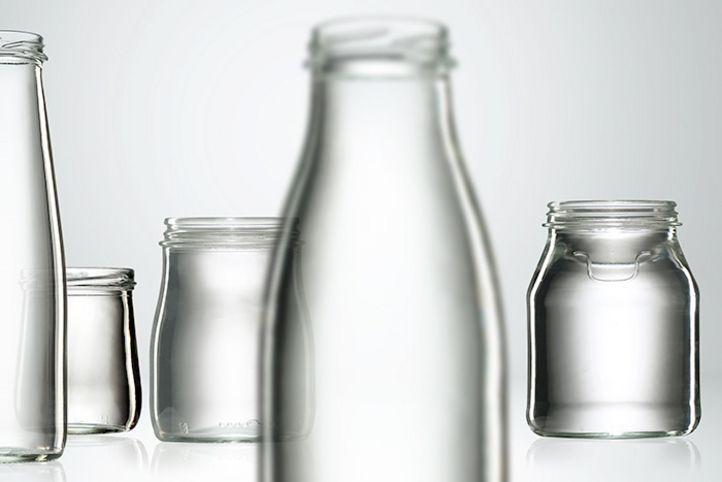glass_bottle: (523, 198, 703, 444)
